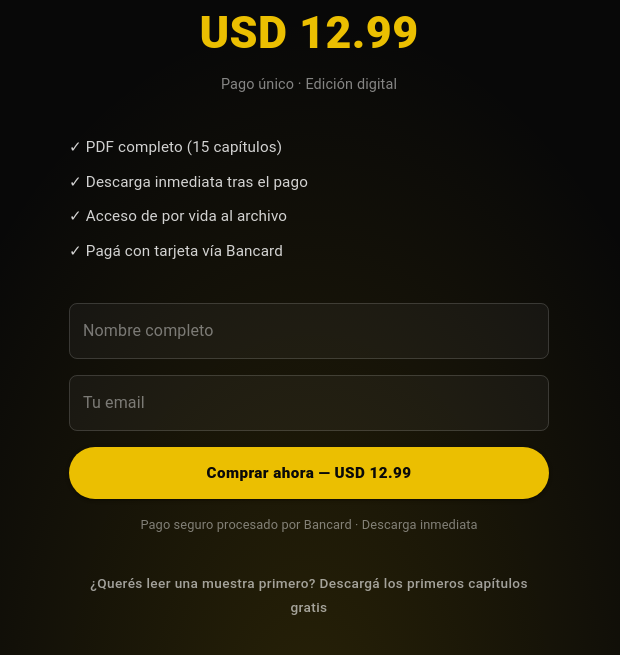
LibroCompra › si la API responde sin processId → muestra mensaje de error
Type "Juan Pérez" into the field with placeholder "Nombre completo".
click(309, 331); type("Juan Pérez")  # box [69, 303, 549, 359]
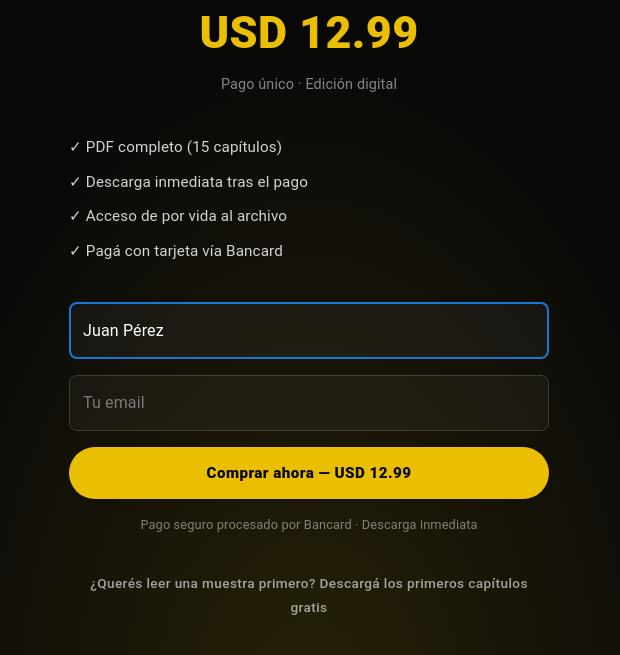
Type "juan@test.com" into the field with placeholder "Tu email".
click(309, 403); type("juan@test.com")  # box [69, 375, 549, 431]
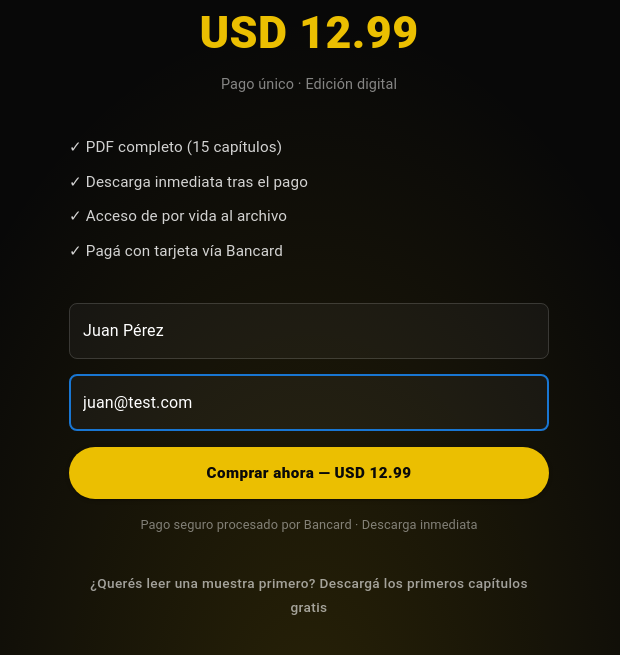
Click the button "Comprar ahora — USD 12.99".
click(309, 473)  # box [69, 447, 549, 499]
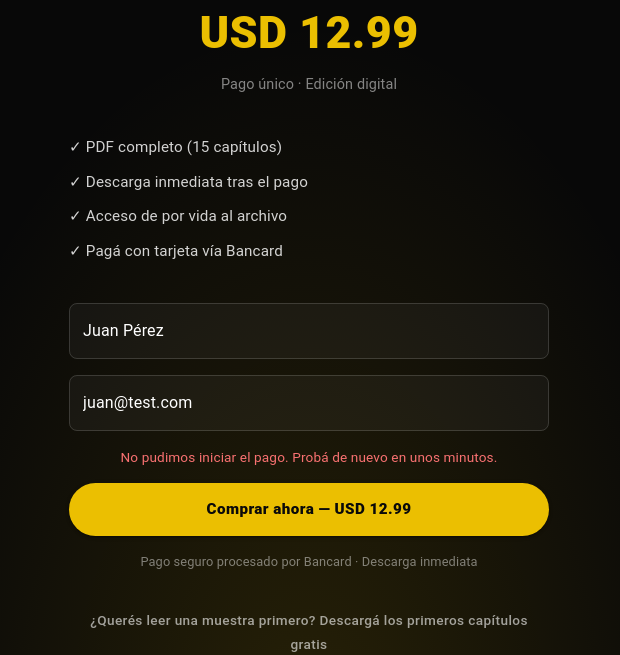
Now the text "No pudimos iniciar el pago. Probá de nuevo en unos minutos." is shown, box [120, 449, 498, 465]
